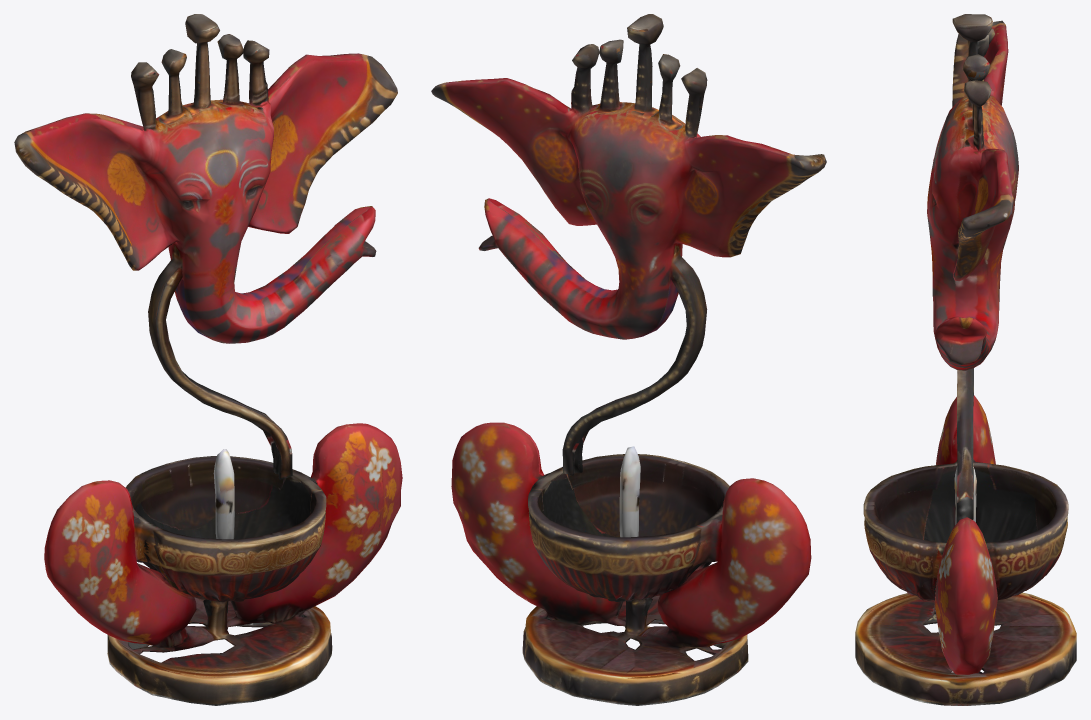
Rendered from Ganesha_Candle_Holder.glb.
3 views of the same model, side by side, from view 1: azimuth 30°, elevation 25°; view 2: azimuth 150°, elevation 25°; view 3: azimuth 270°, elevation 25° (orthographic).
Bounding box in the file's own units: 1.22 × 2 × 0.6313.
Materials: 1 (1 with a texture image).
